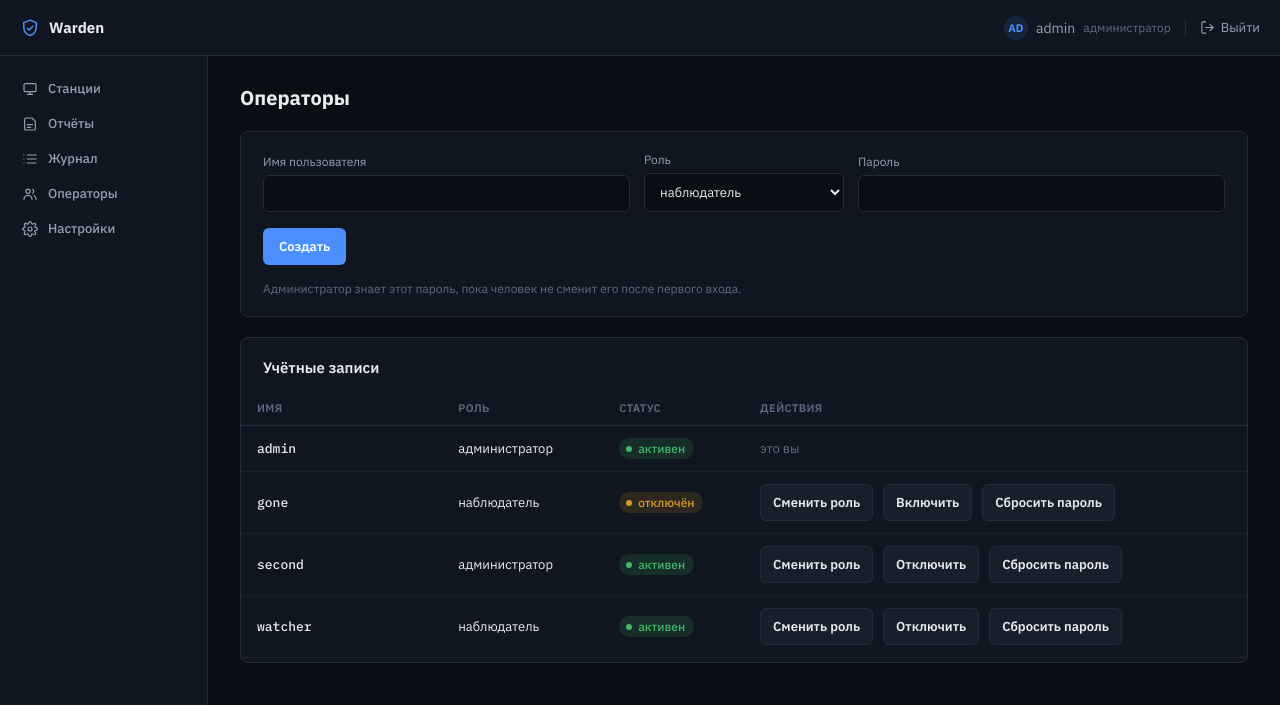
it: OperatorsPage create › can create an administrator
Check: the row that starts with "watcher" is shown, box [241, 596, 1247, 658]
Type "another" into the field labelled "Имя пользователя".
click(446, 194); type("another")  # box [263, 175, 630, 212]
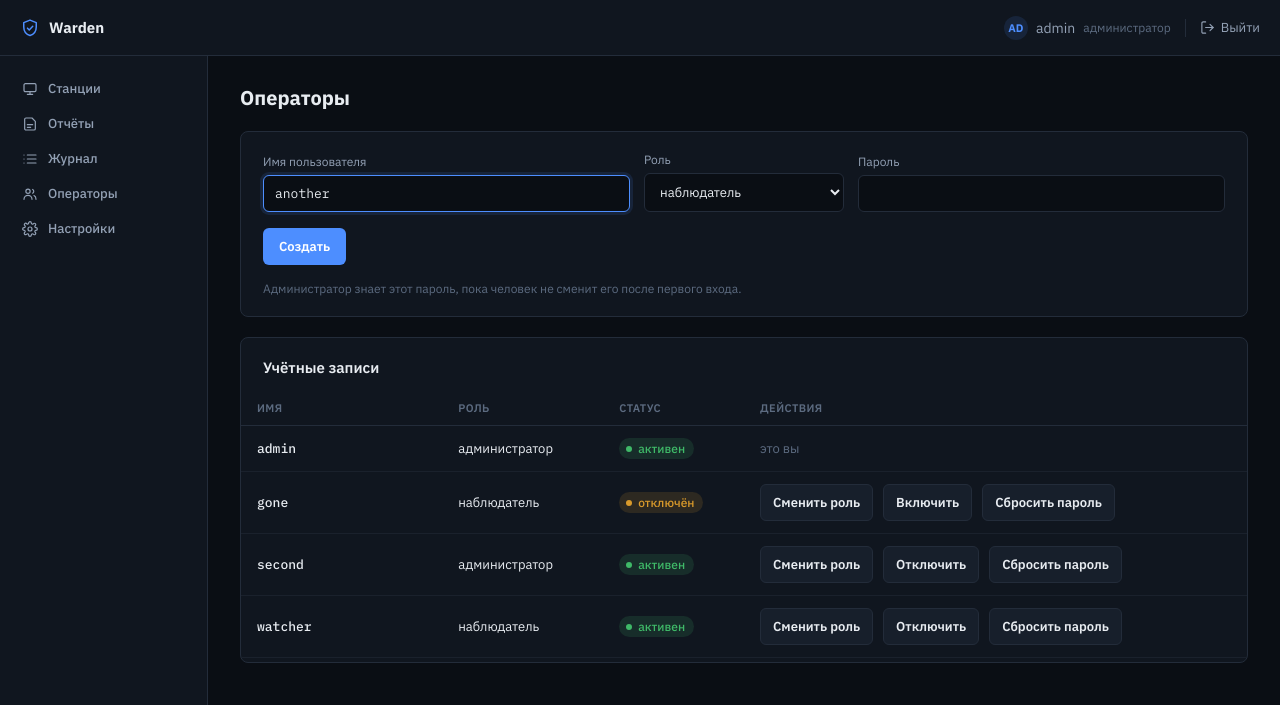
Select "администратор" in the dropdown labelled "Роль" at (744, 192), box [644, 173, 844, 212]
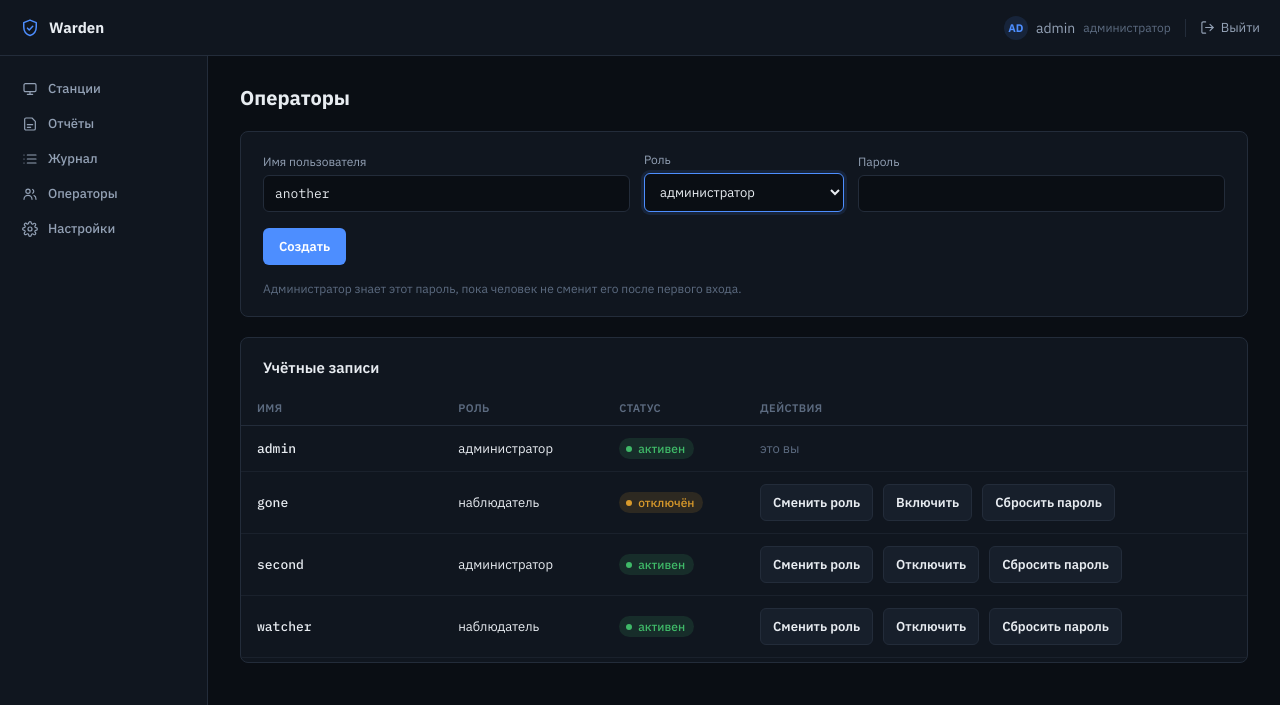
Type "a-long-enough-passphrase" into the password field labelled "Пароль".
click(1042, 194); type("a-long-enough-passphrase")  # box [858, 175, 1225, 212]
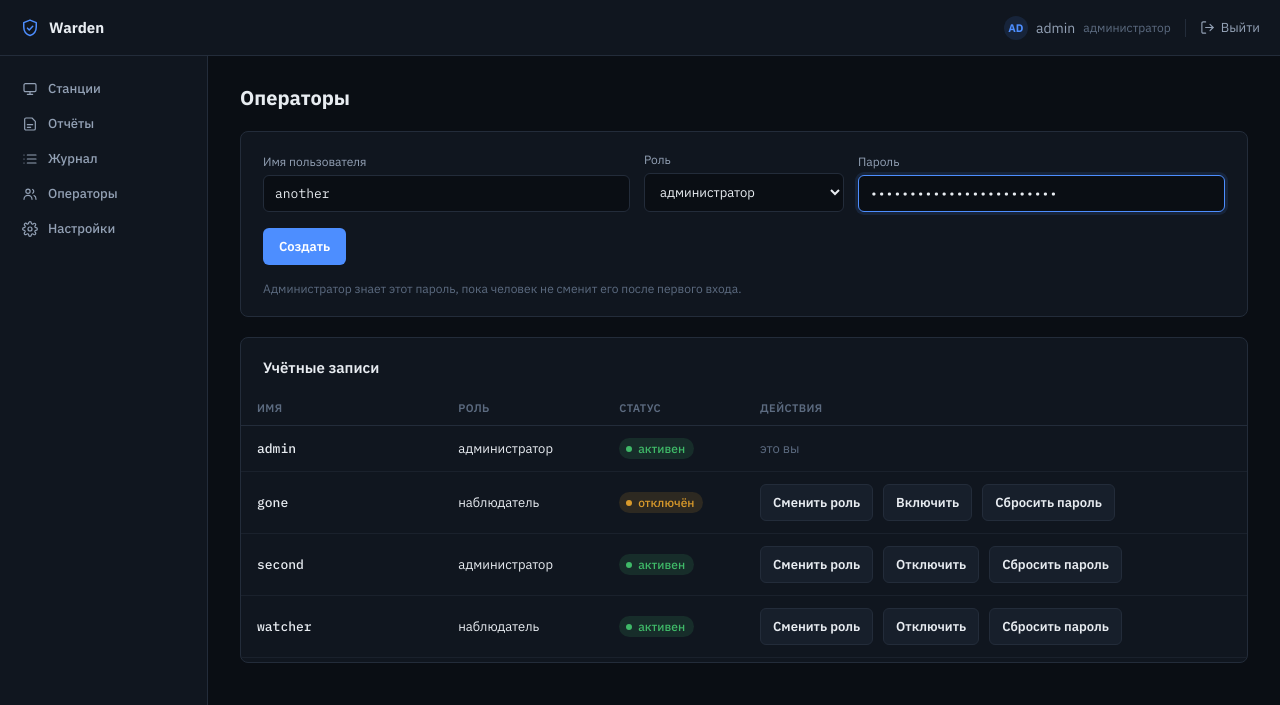
Click the button "Создать".
click(305, 246)  # box [263, 228, 346, 265]
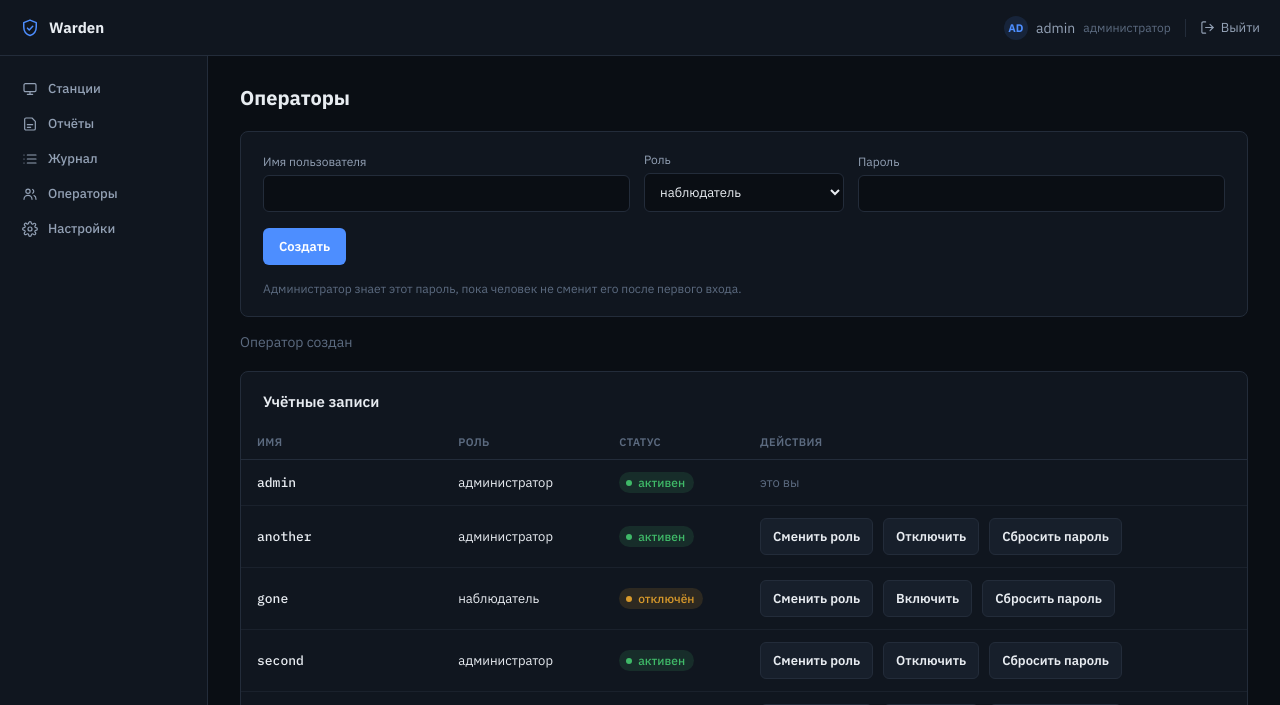
Check: the text "Оператор создан" is shown, box [240, 333, 352, 351]
